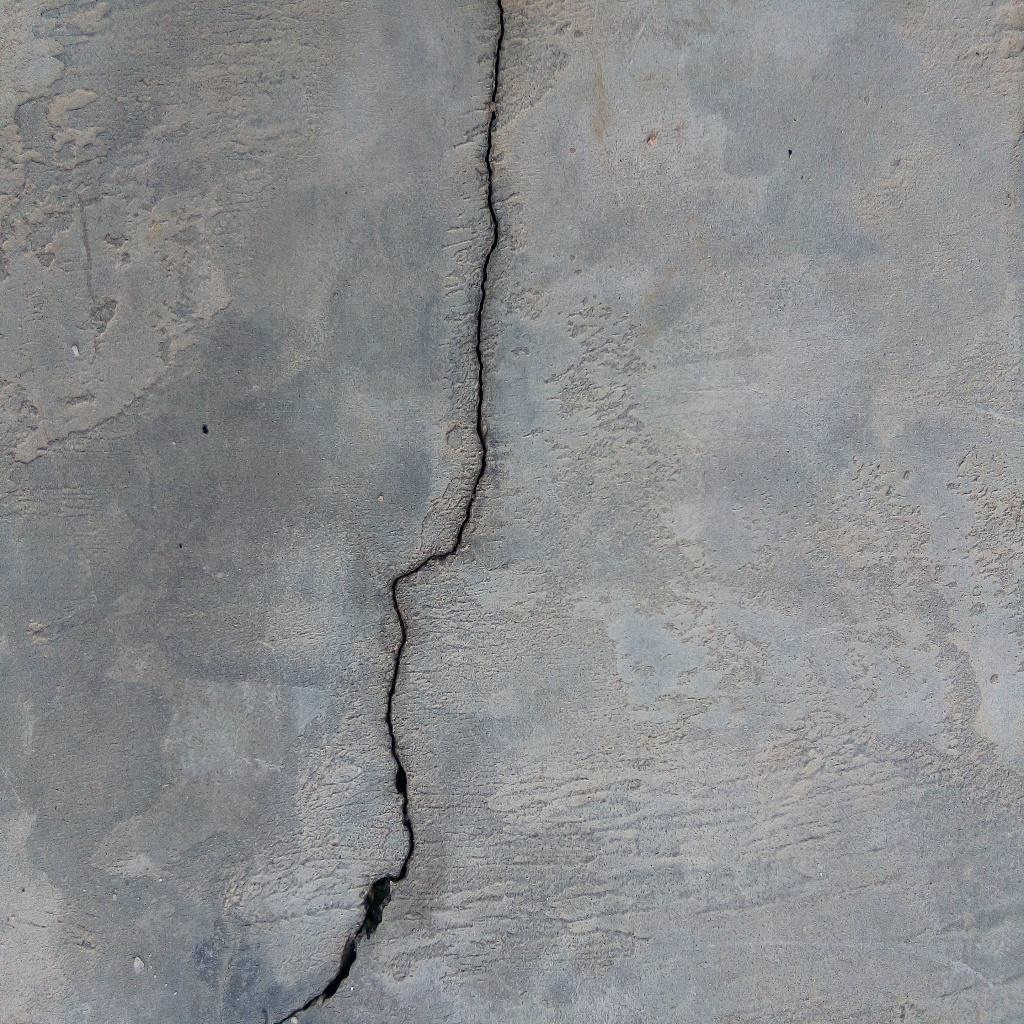Crack: (274, 1, 507, 1024)
